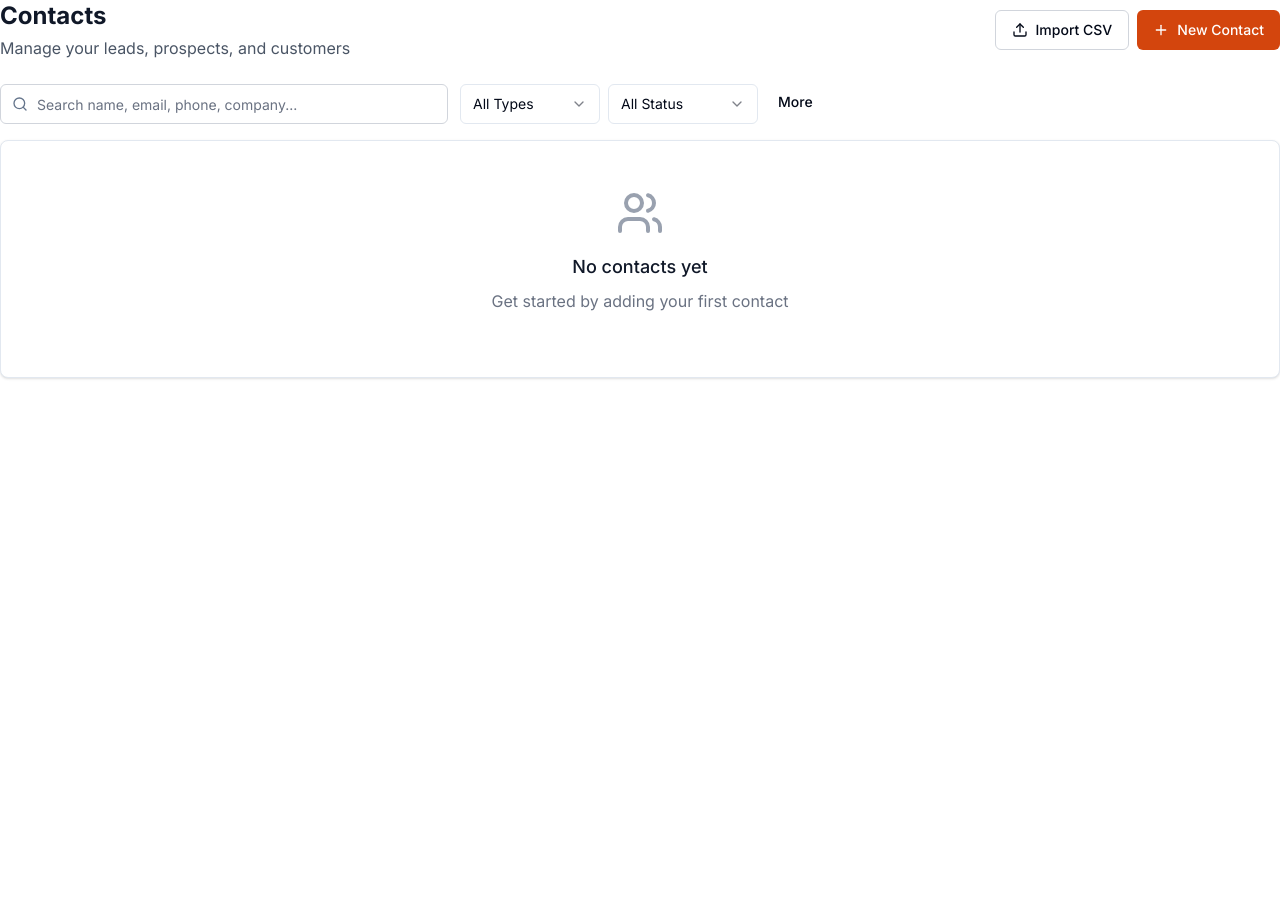
Scenario: Customer Workflow Integration › Contact Creation Workflow › should open create modal when button clicked
Click the button "New Contact" at (1209, 30), box [1137,10,1279,50]
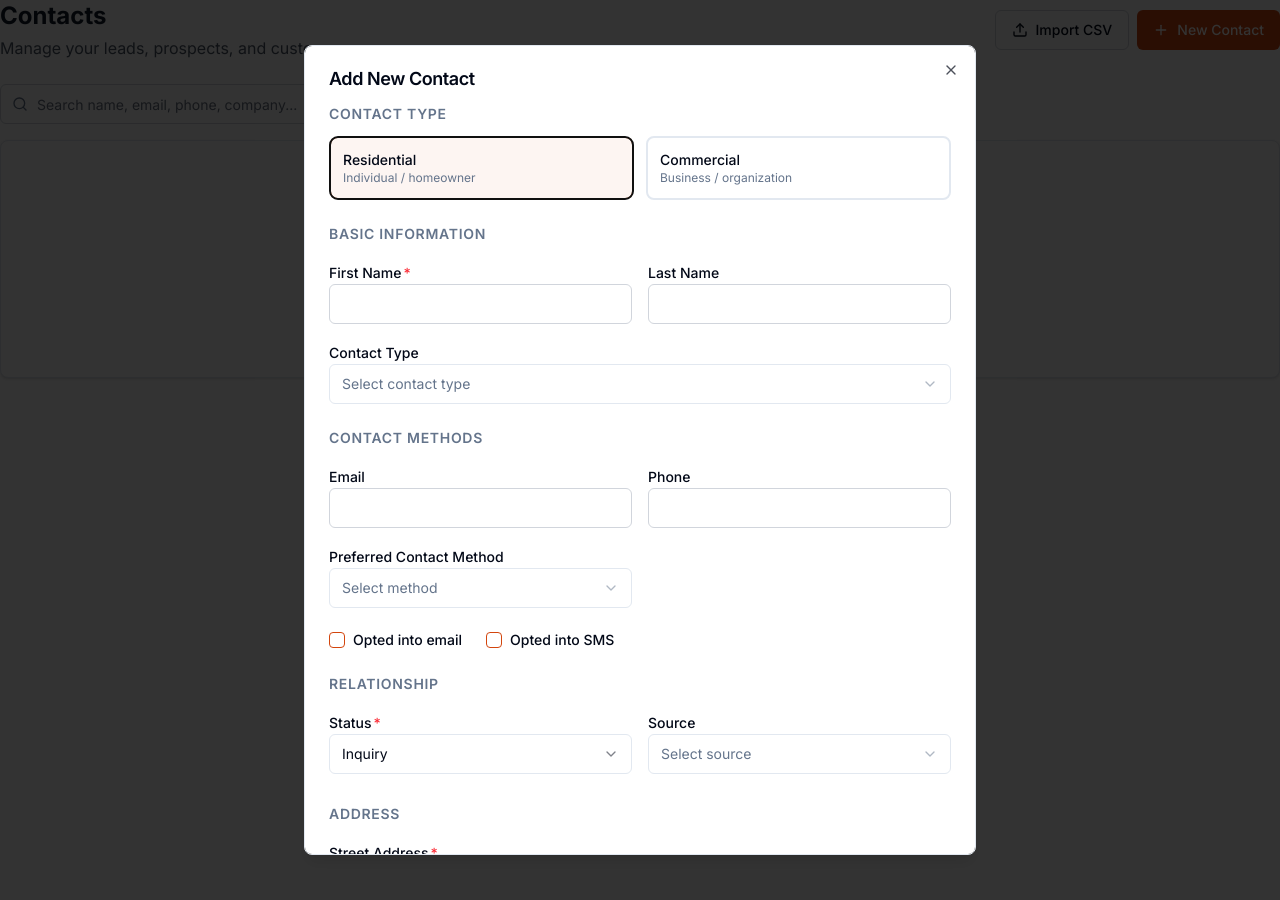
Result: the heading "Add New Contact" is shown at [329,68,475,89]
